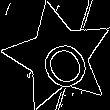O_NW: (27, 24, 91, 90)
